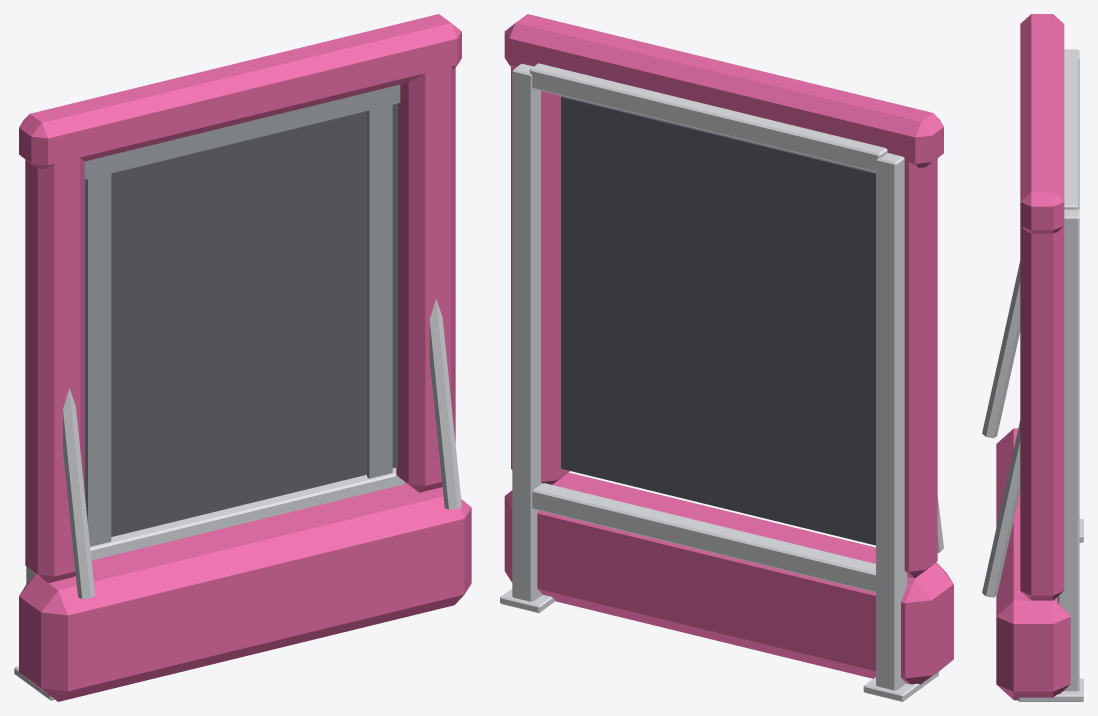
The model's file is trampoline-park-and-soft-play-wall-trampoline-module-ea274389__34609.glb.
3 views of the same model, side by side, from view 1: azimuth 30°, elevation 25°; view 2: azimuth 150°, elevation 25°; view 3: azimuth 270°, elevation 25° (orthographic). The views are drawn at different scales.
Parts seen in each view (by area): view 1: wall-trampoline-module; view 2: wall-trampoline-module; view 3: wall-trampoline-module.
Boxes of the visible parts, x1,y1,x2,y2 form: wall-trampoline-module: (14,14,471,701); wall-trampoline-module: (500,14,953,701); wall-trampoline-module: (982,14,1083,701).
Bounding box in the file's own units: 2.02 × 2.57 × 0.4644.
